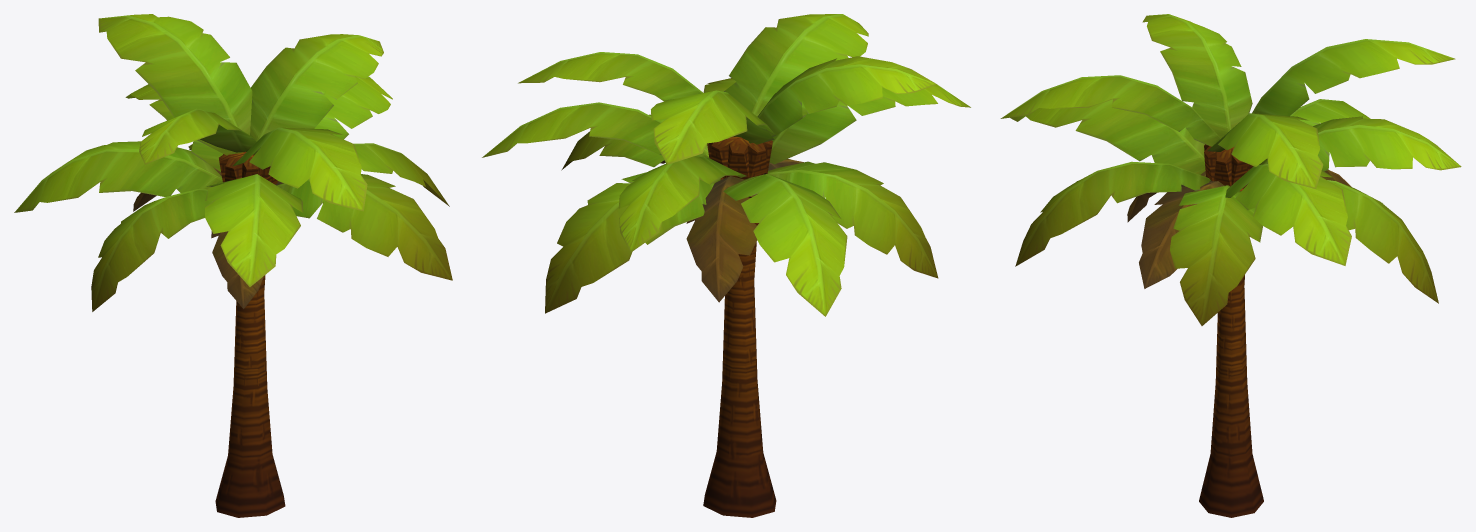
File: CoconutTree.fbx
3 renders of one model, left to right at view 1: azimuth 30°, elevation 25°; view 2: azimuth 150°, elevation 25°; view 3: azimuth 270°, elevation 25°, orthographic. The views are drawn at different scales.
Visible parts, largest first — view 1: coconut_tree; view 2: coconut_tree; view 3: coconut_tree.
Boxes of the visible parts, box(x1,y1,x2,y2) form: coconut_tree: box(14, 14, 452, 517); coconut_tree: box(482, 14, 970, 517); coconut_tree: box(1000, 14, 1461, 517).
Size of the model in its own units: 435 by 501 by 469.
Materials: 1 (1 with a texture image).
